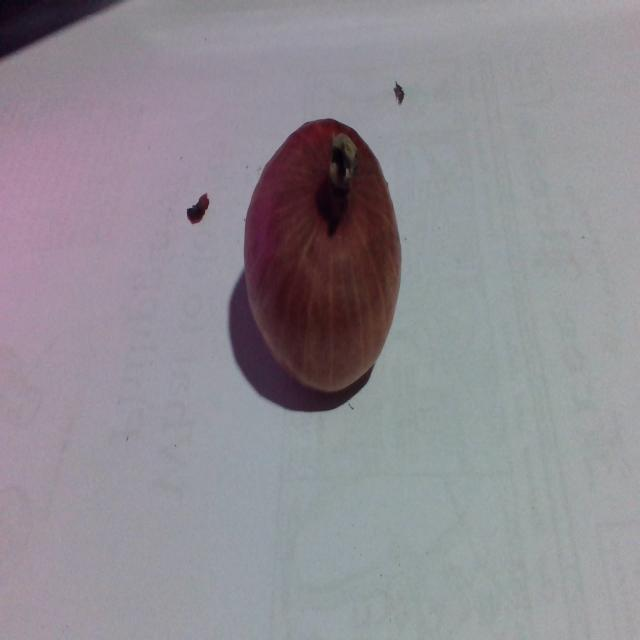onion: (234, 91, 408, 400)
